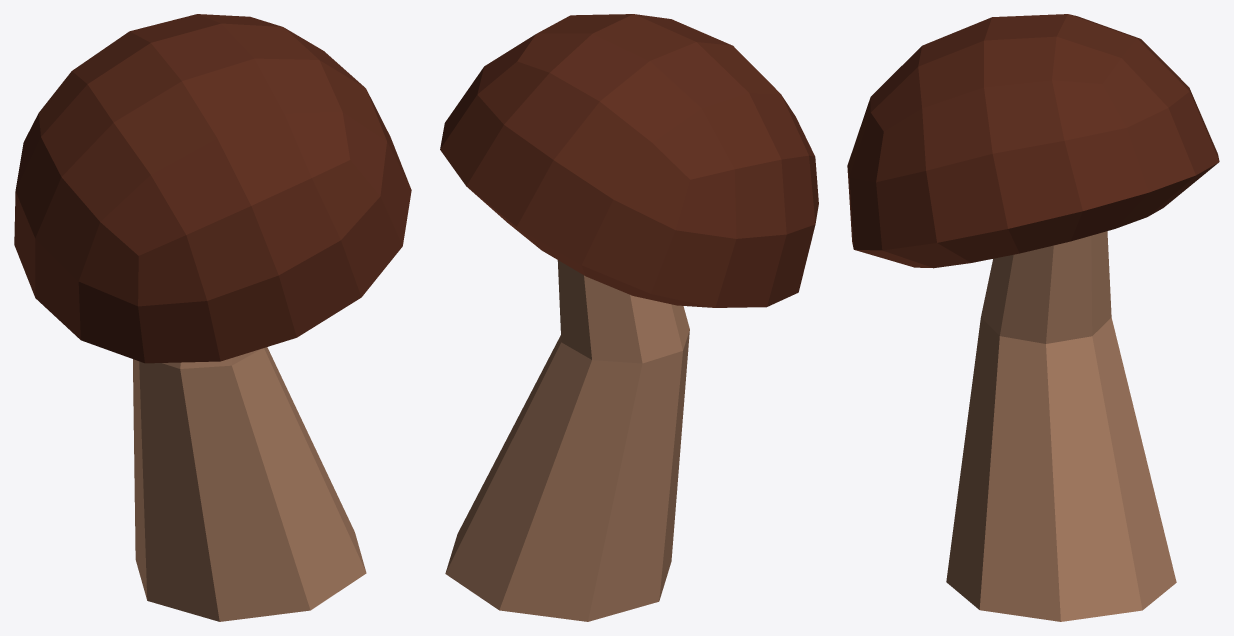
The model's file is mesh_mushroom_01_brown.fbx.
3 renders of one model, left to right at view 1: azimuth 30°, elevation 25°; view 2: azimuth 150°, elevation 25°; view 3: azimuth 270°, elevation 25°, orthographic. The views are drawn at different scales.
Visible parts, largest first — view 1: mesh_mushroom_01_brown_LOD0; view 2: mesh_mushroom_01_brown_LOD0; view 3: mesh_mushroom_01_brown_LOD0.
Part boxes in pixels (bbox=[...]): mesh_mushroom_01_brown_LOD0: bbox=[14, 14, 411, 621]; mesh_mushroom_01_brown_LOD0: bbox=[440, 14, 818, 621]; mesh_mushroom_01_brown_LOD0: bbox=[847, 14, 1219, 621].
Size of what is drawn, in the model's own units: 0.2017 by 0.322 by 0.2013.
